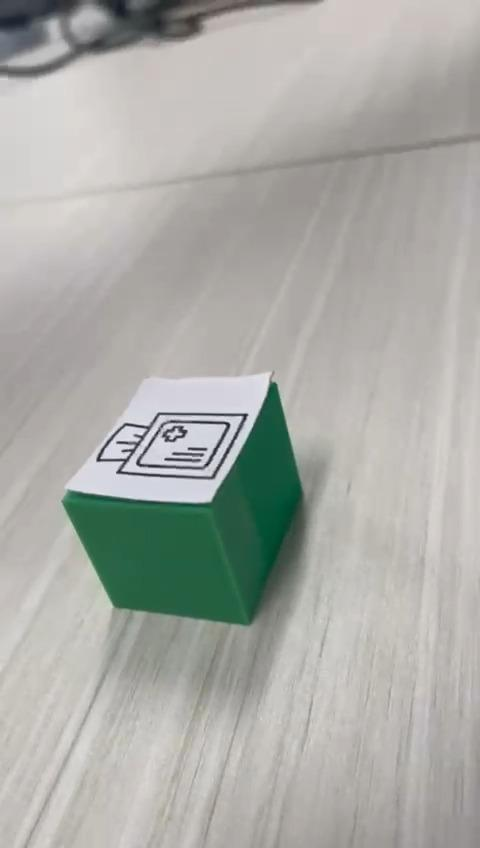Gauze: (60, 369, 304, 626)
